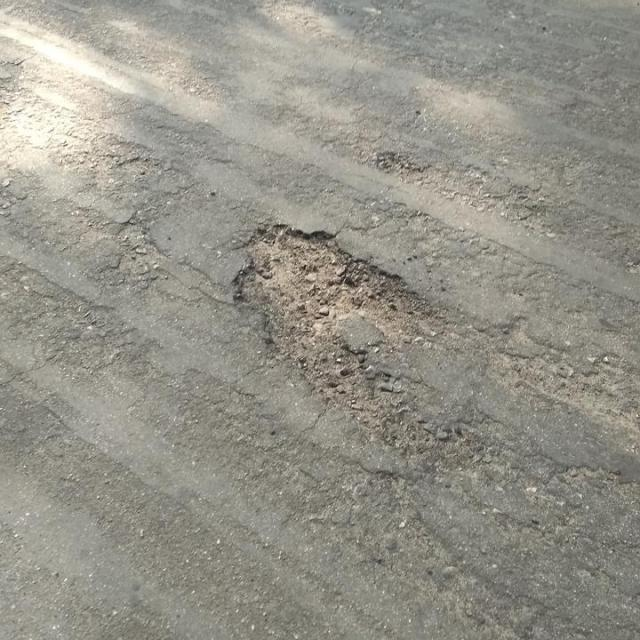pothole: (227, 217, 442, 434)
